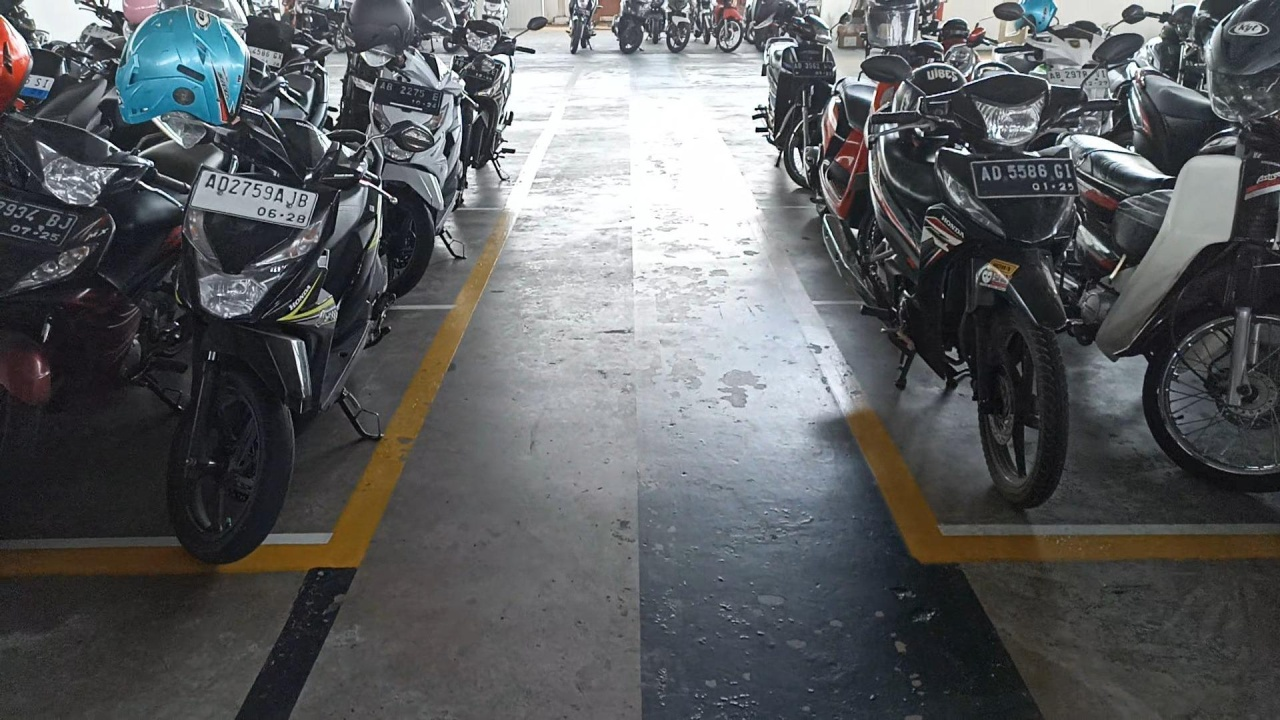plate: (190, 169, 318, 228), (971, 158, 1079, 198), (373, 78, 442, 114), (793, 62, 834, 77)
